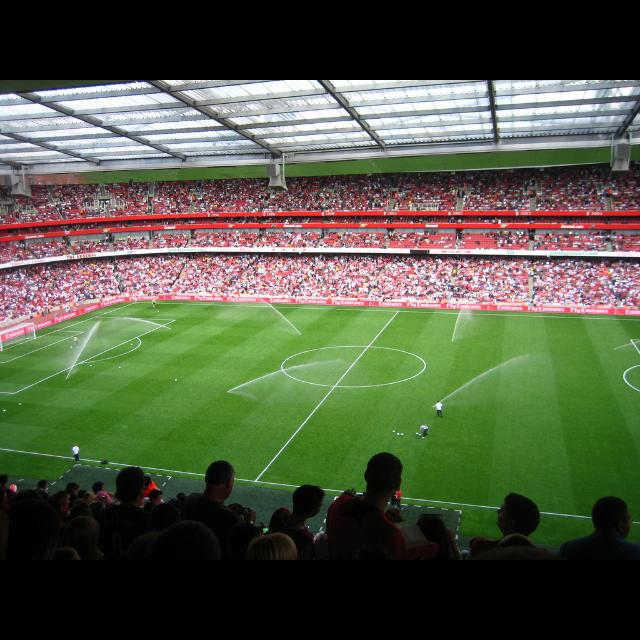Football: (174, 378, 176, 380)
